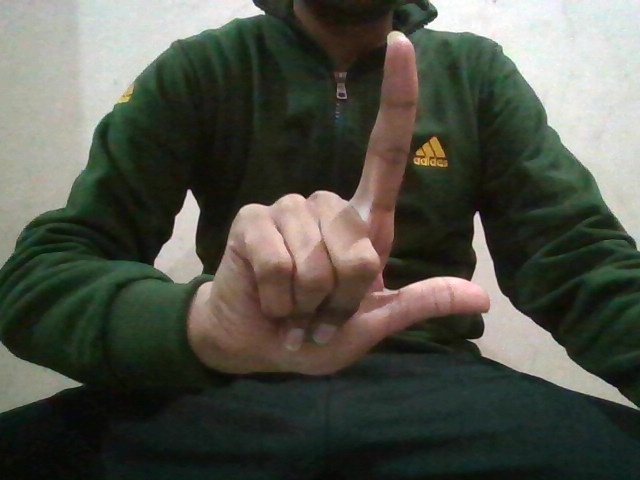L: (208, 26, 491, 378)
